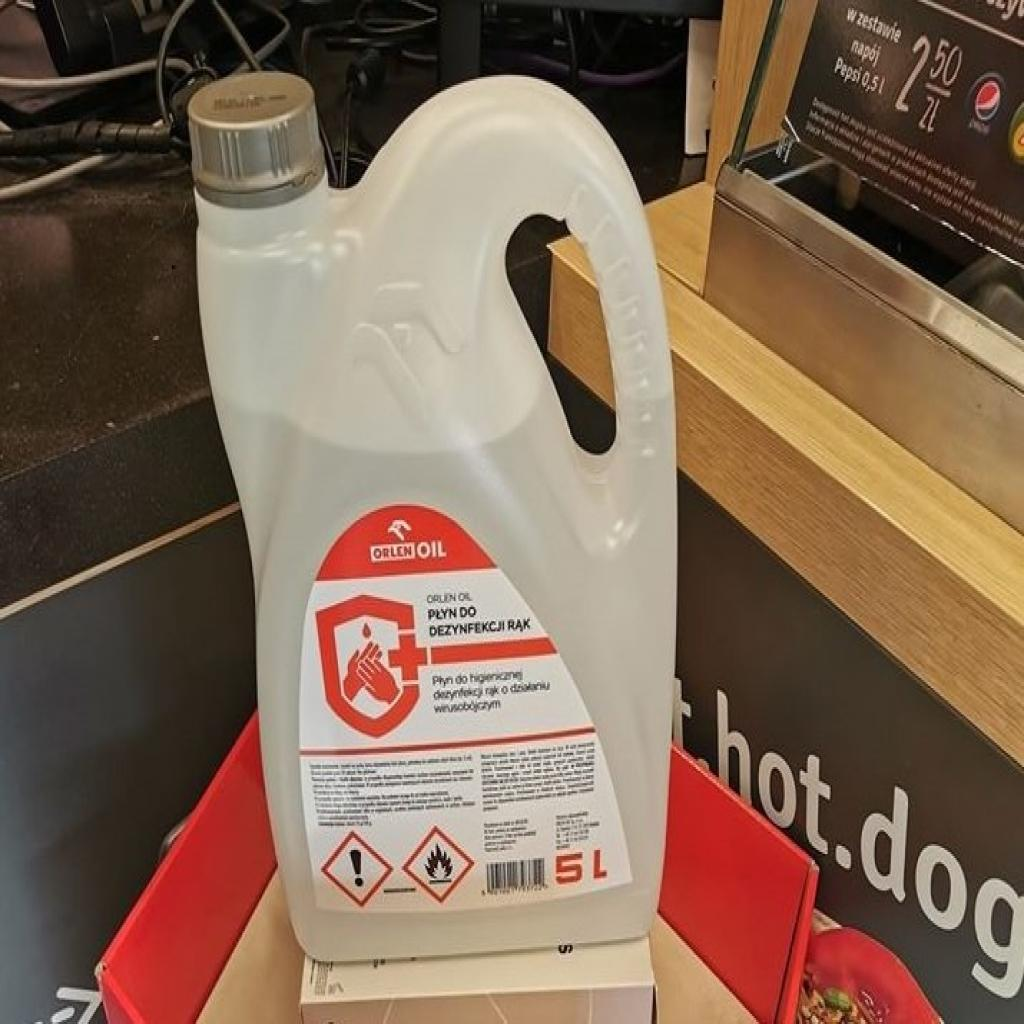plastic: (180, 64, 704, 975)
